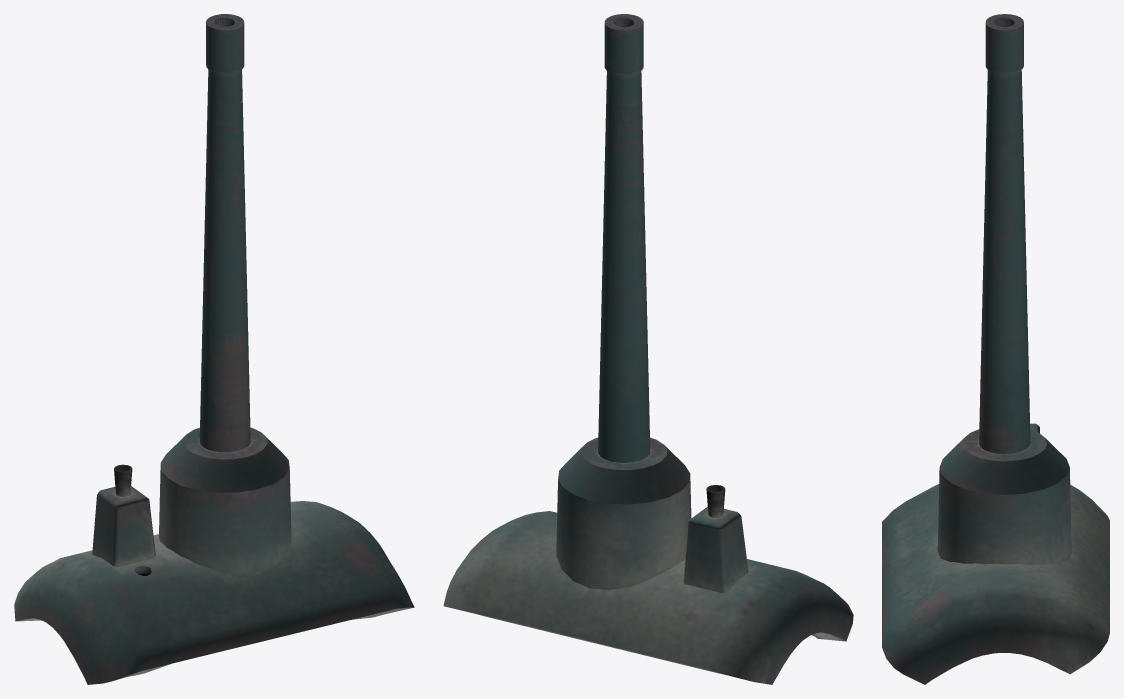
File: Gun_02.glb
3 views of the same model, side by side, from view 1: azimuth 30°, elevation 25°; view 2: azimuth 150°, elevation 25°; view 3: azimuth 270°, elevation 25° (orthographic). The views are drawn at different scales.
Parts seen in each view (by area): view 1: set_0_group_0; view 2: set_0_group_0; view 3: set_0_group_0.
Boxes of the visible parts, x1,y1,x2,y2 form: set_0_group_0: (14,14,414,684); set_0_group_0: (443,14,853,684); set_0_group_0: (882,14,1109,684).
Bounding box in the file's own units: 0.8904 × 1.58 × 0.5467.
1 material, 1 textured.
